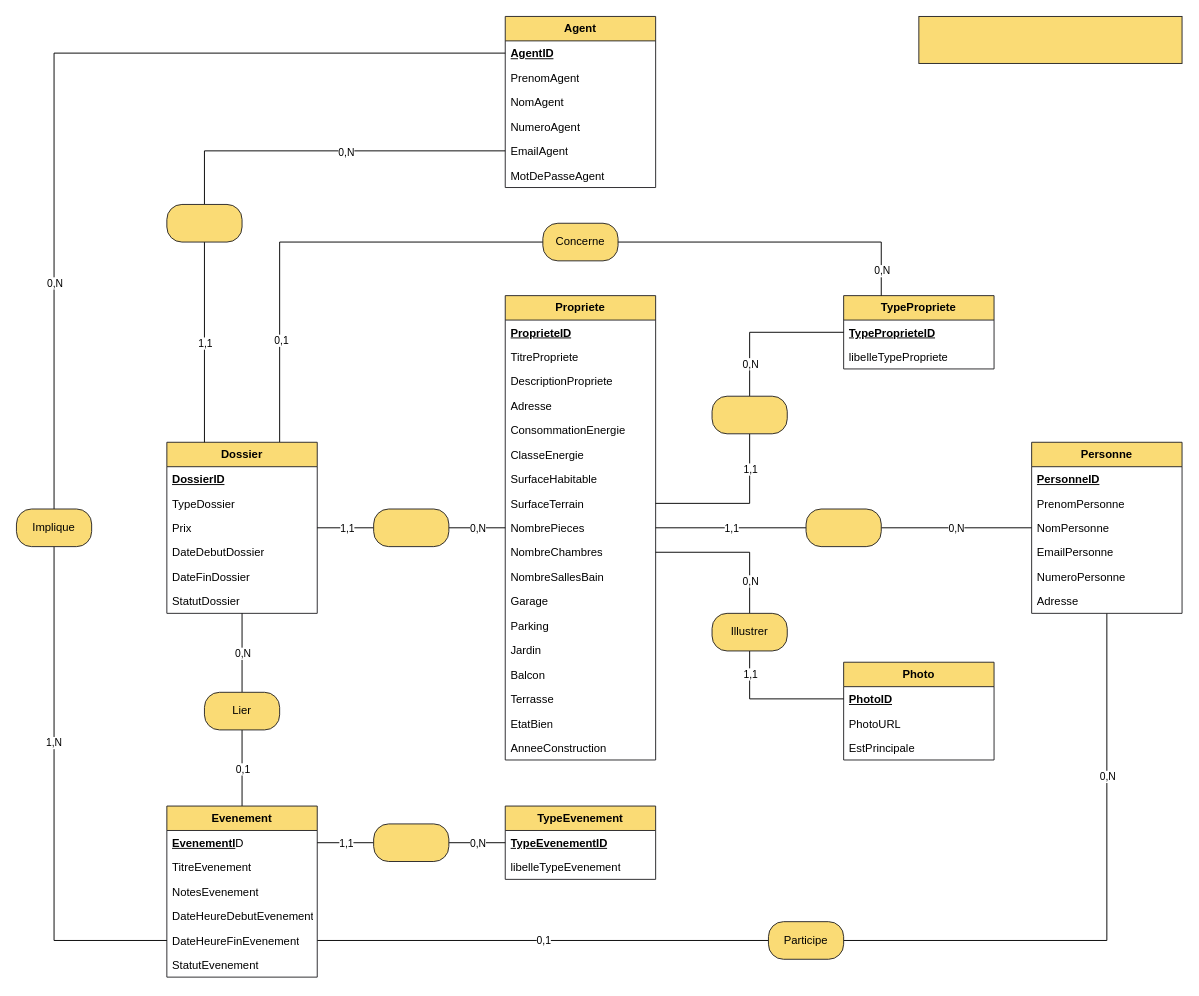
The diagram is 1199 pixels wide and 996 high, and some of its shapes have lost their labels. Here are the shapes that lost their labels. From the top down, the centre of each, then its label:
point 1050,39: Modéle entité-association Version 2.1
point 204,223: Gerer
point 749,414: Appartenir
point 411,527: Fait l'objet d'une
point 843,527: Possèder
point 411,842: Catégoriser
